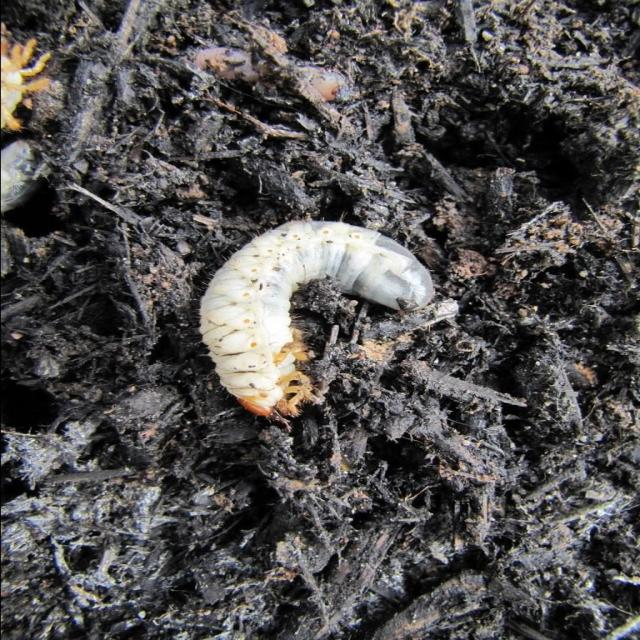grub: (198, 218, 442, 428)
